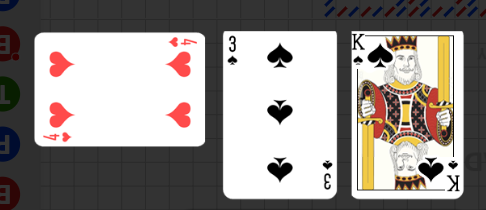3S: (226, 34, 240, 68)
4H: (42, 130, 73, 143)
KS: (445, 156, 462, 193)
